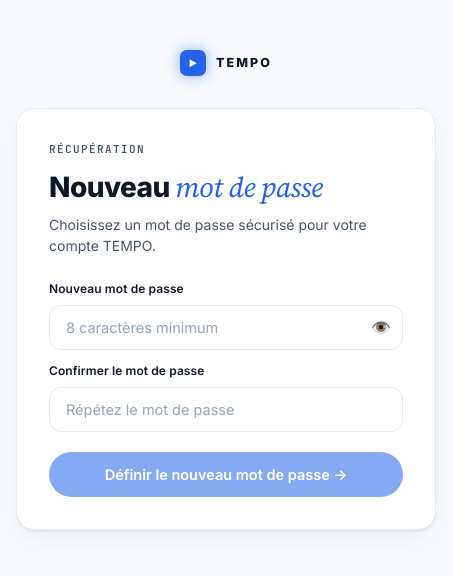
Test case: ResetPassword › Indicateur de correspondance › affiche un message positif si confirm = password
Step 1. Type "Abcde12345" into the password field labelled "Nouveau mot de passe" → (226, 327), box [49,305,403,350]
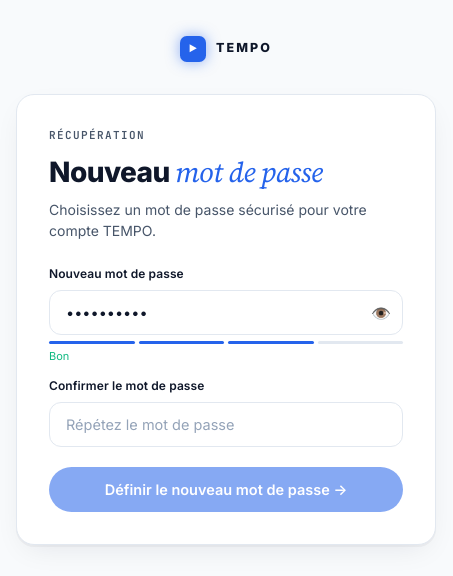
Step 2. Type "Abcde12345" into the password field labelled "Confirmer le mot de passe" → (226, 424), box [49,402,403,446]
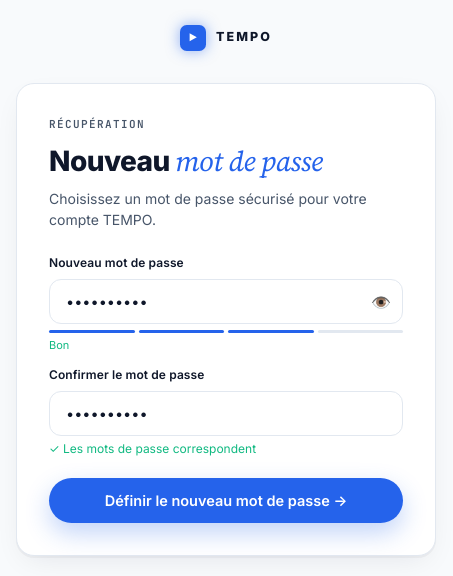
Expected: the text "✓ Les mots de passe correspondent" is shown, [49,440,256,456]
